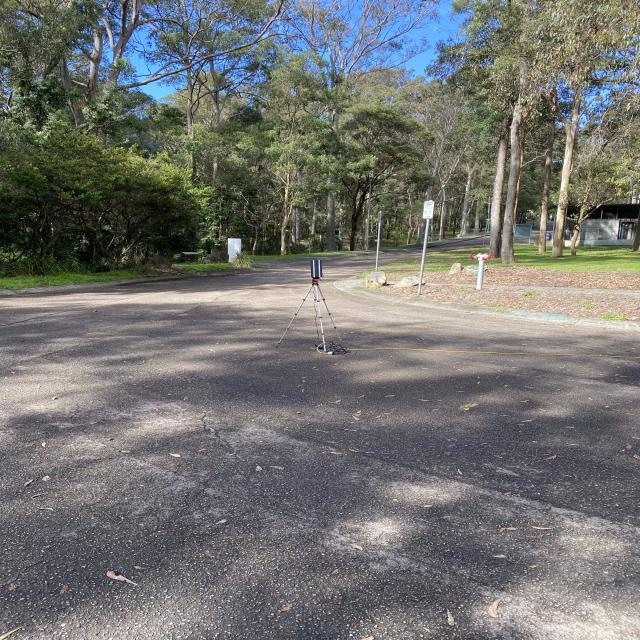matrix: (308, 256, 326, 282)
